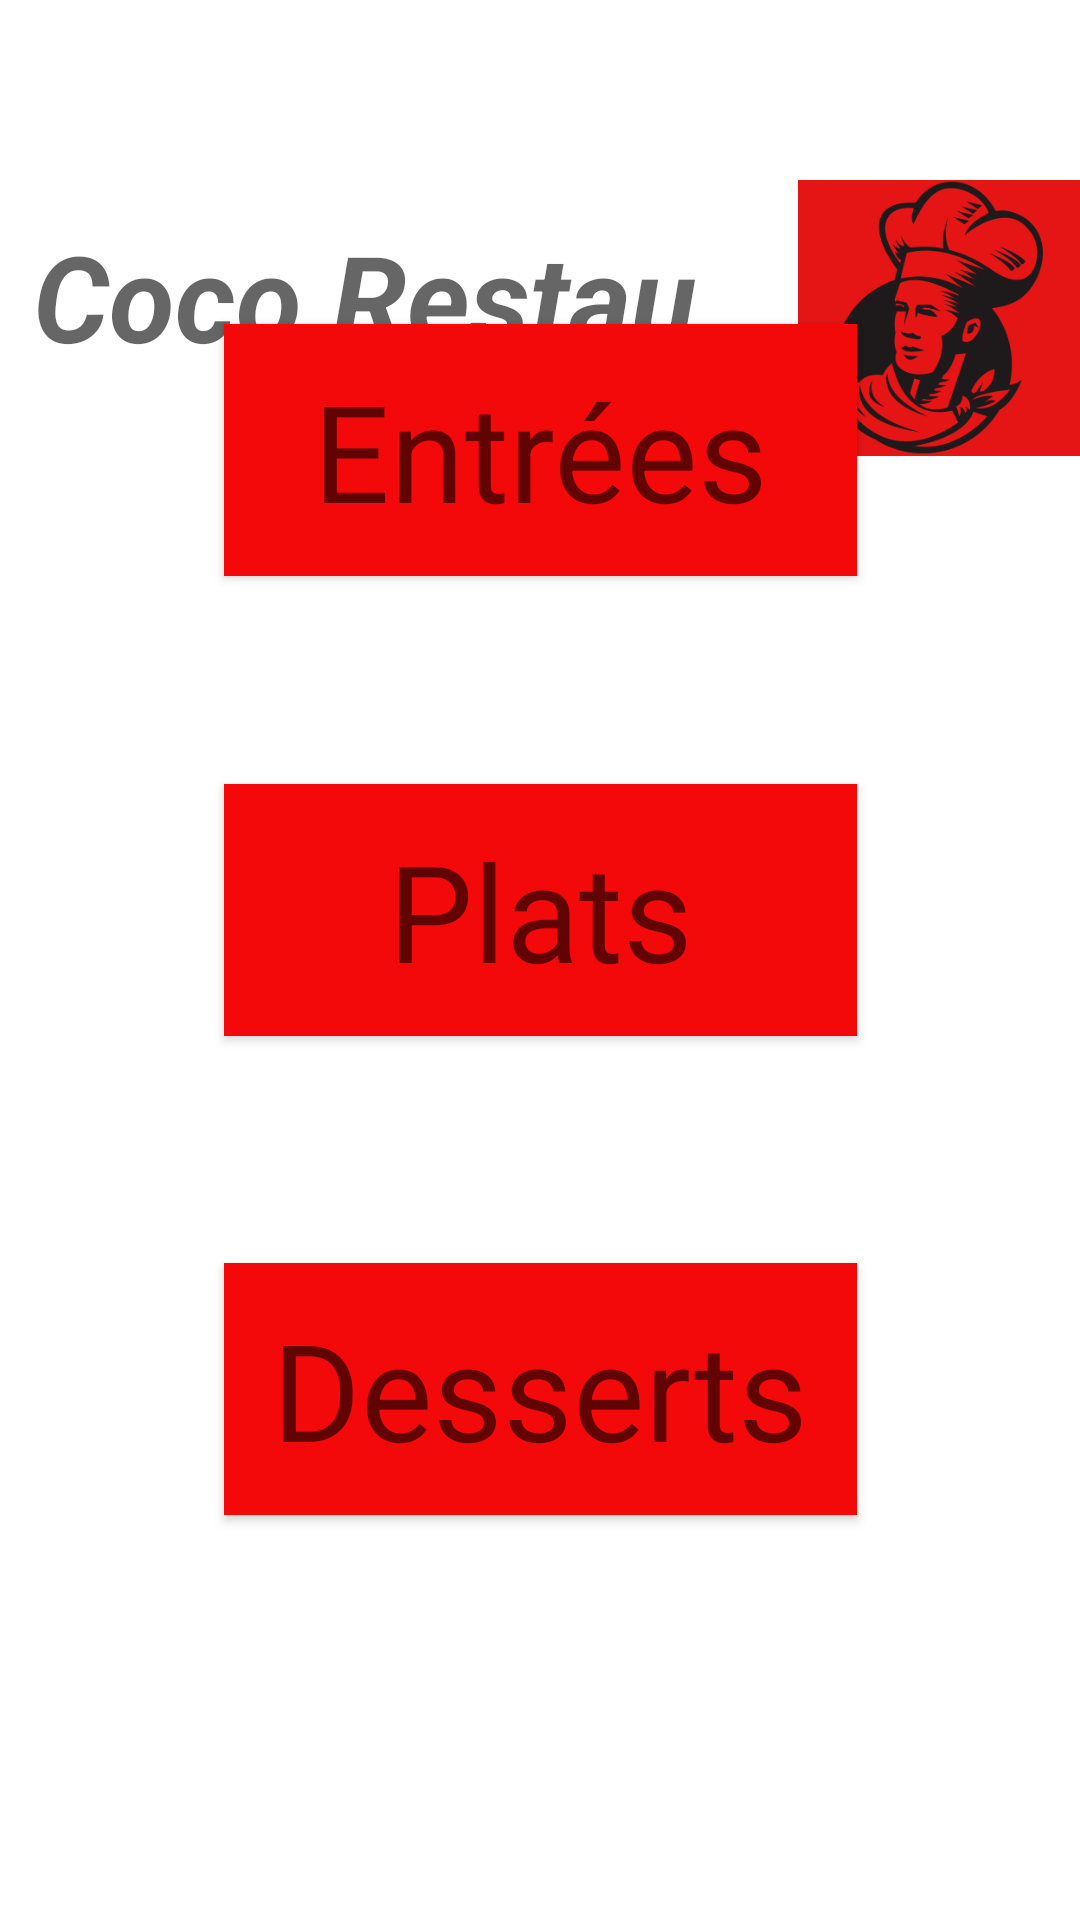

Icon click points for this 1080w x 1920h phone screenshot, format (x=x, y=y):
shef: (x=939, y=318)
